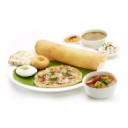dosa: (36, 38, 106, 71)
